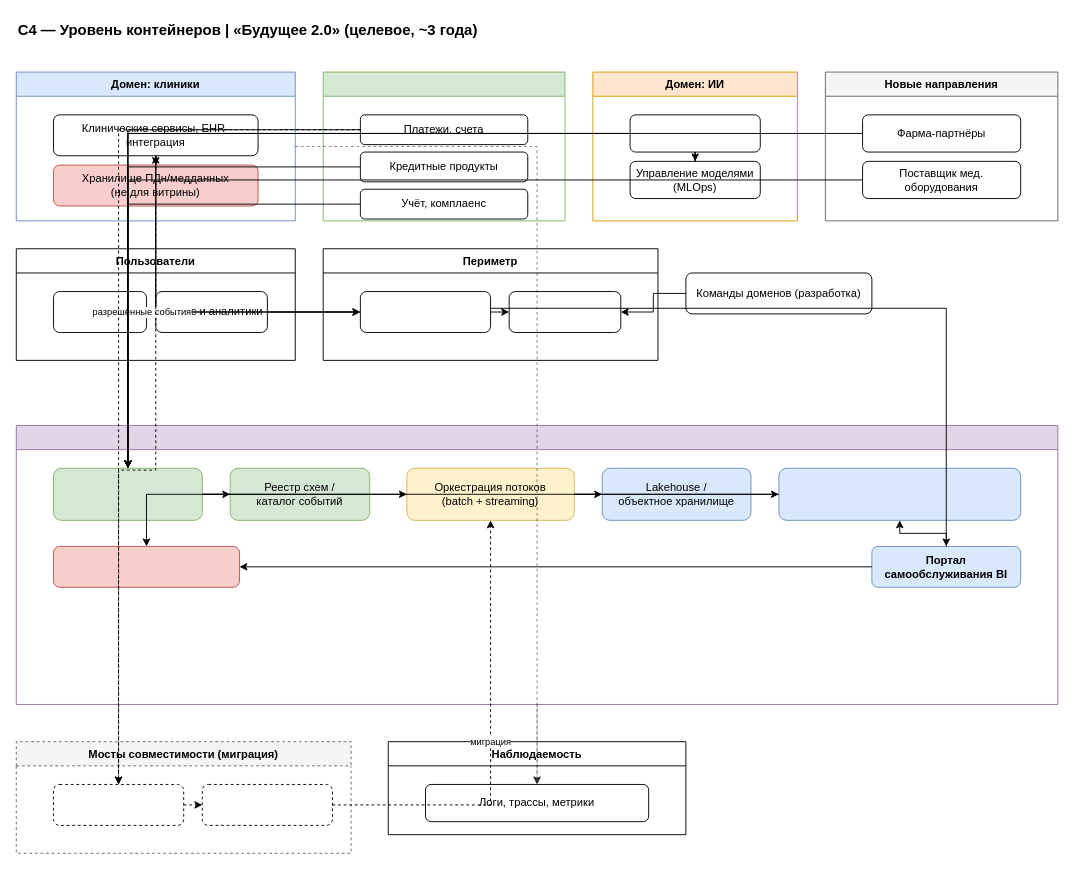
Image size: 1074x870. Some labels were removed from this diagram. The box of each missing label's shape, as (x1, y1, x2, y2) in pixels:
API Gateway / BFF: (359, 291, 491, 332)
ESB Camel (ограниченно): (53, 784, 184, 825)
IAM / SSO: (508, 291, 621, 332)
Витрины + семантический слой (без PHI / исследований): (778, 467, 1021, 520)
Домен: финтех: (322, 71, 565, 221)
ИИ-сервисы: (629, 114, 760, 152)
Каталог данных, lineage: (53, 545, 239, 587)
Легаси DWH (SQL Server): (201, 784, 332, 825)
Операторы клиник: (53, 291, 146, 332)
Платформа данных и интеграции: (15, 425, 1058, 704)
Шина событий (Kafka / аналог): (53, 467, 202, 520)
